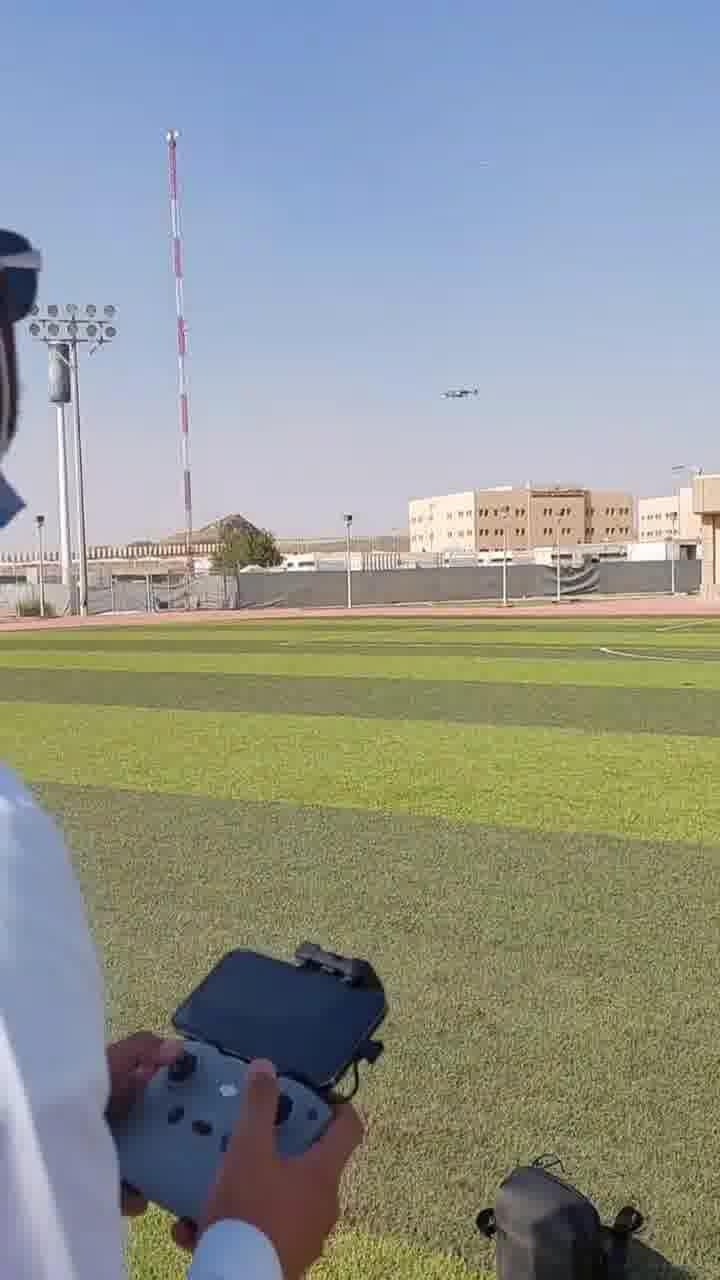drone: (433, 376, 489, 409)
